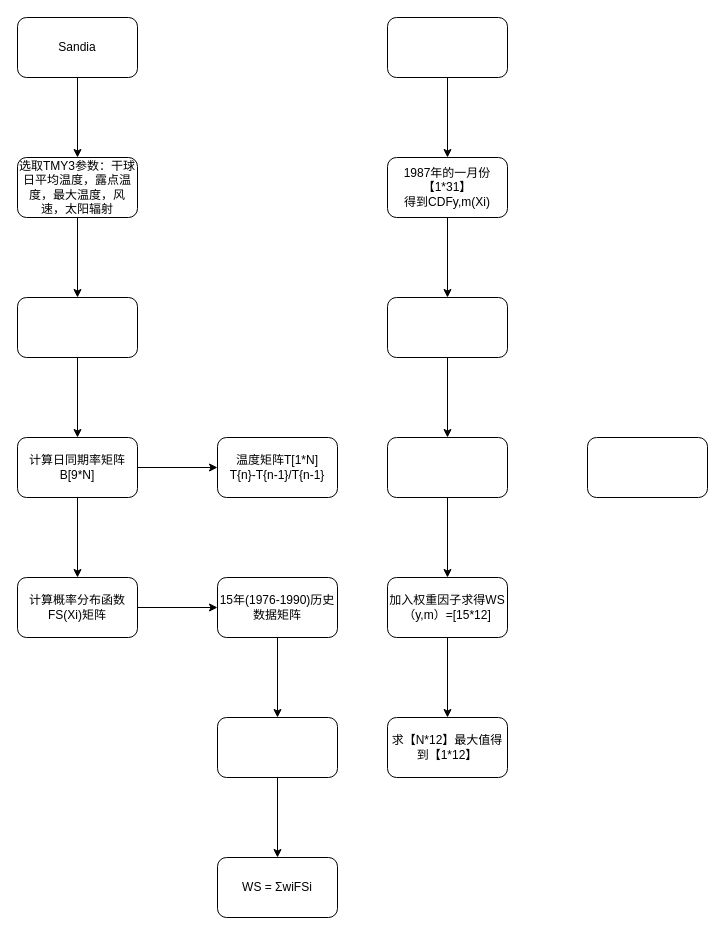
Some shapes in this 725 by 935 pixel diagram are drawn without their labels. Here are the shapes that lost their labels. From the top down, the box of each, then its label:
(386, 16, 508, 78): 30个一月份=[30*31] 得到CDFm(Xi)
(16, 296, 138, 358): (1961-1990)30年历史数据矩阵A[9*N]
(386, 296, 508, 358): FSx(y,m)|CDFm(Xi)-CDFy,m(Xi)|
(386, 436, 508, 498): 15年每个月求FS=【15*12*【FS(Xi)】】
(216, 716, 338, 778): 计算每月的概率分布矩阵
